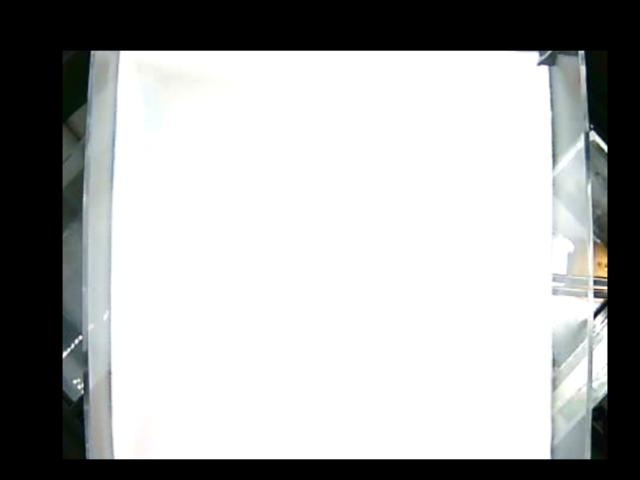Cup: (358, 214, 496, 357)
